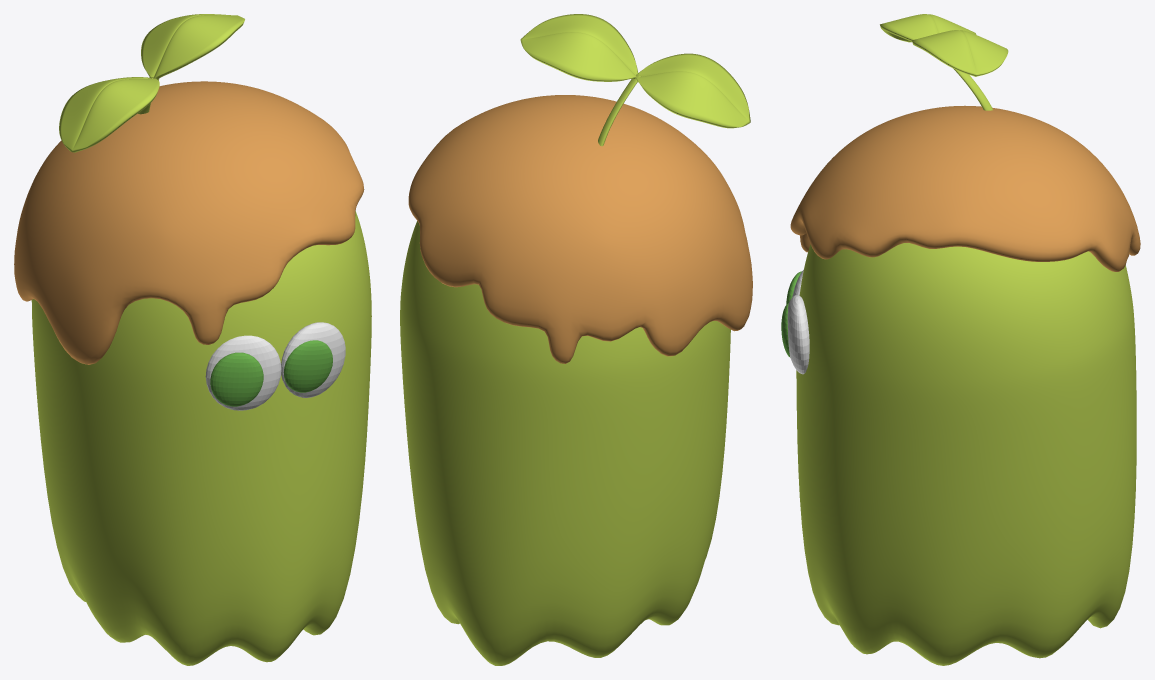
The model's file is spirit_green.fbx.
3 views of the same model, side by side, from view 1: azimuth 30°, elevation 25°; view 2: azimuth 150°, elevation 25°; view 3: azimuth 270°, elevation 25° (orthographic). The views are drawn at different scales.
Visible parts, largest first — view 1: GreenSpirit, Cube.003, NurbsPath.002, Sphere.010, Sphere.009, Sphere.012; view 2: GreenSpirit, Cube.003, NurbsPath.002; view 3: GreenSpirit, Cube.003, NurbsPath.002, Sphere.010.
Boxes of the visible parts, x1,y1,x2,y2 form: GreenSpirit: (31,211,371,665); Cube.003: (14,81,364,364); NurbsPath.002: (59,14,244,152); Sphere.010: (205,322,345,410); Sphere.009: (210,352,263,406); Sphere.012: (283,340,332,392); GreenSpirit: (400,221,730,665); Cube.003: (408,95,752,363); NurbsPath.002: (520,14,750,146); GreenSpirit: (796,243,1136,665); Cube.003: (790,105,1140,271); NurbsPath.002: (880,14,1008,110); Sphere.010: (787,269,809,374).
Bounding box in the file's own units: 96.04 × 181 × 99.97.
